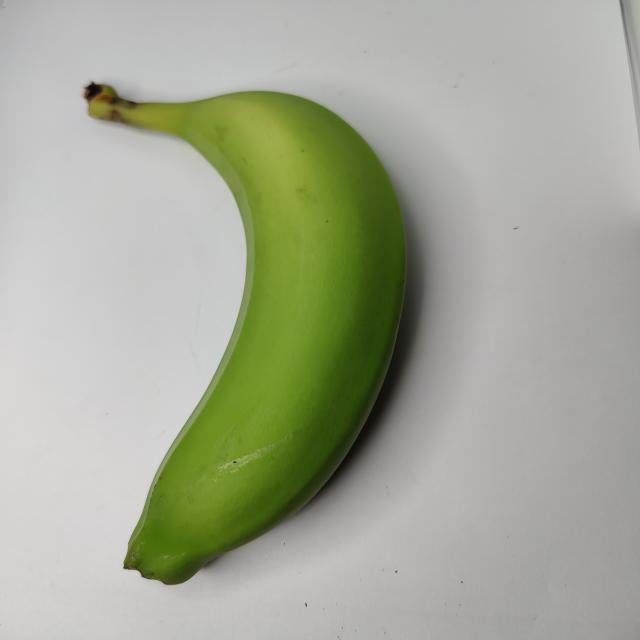raw: (30, 74, 450, 587)
